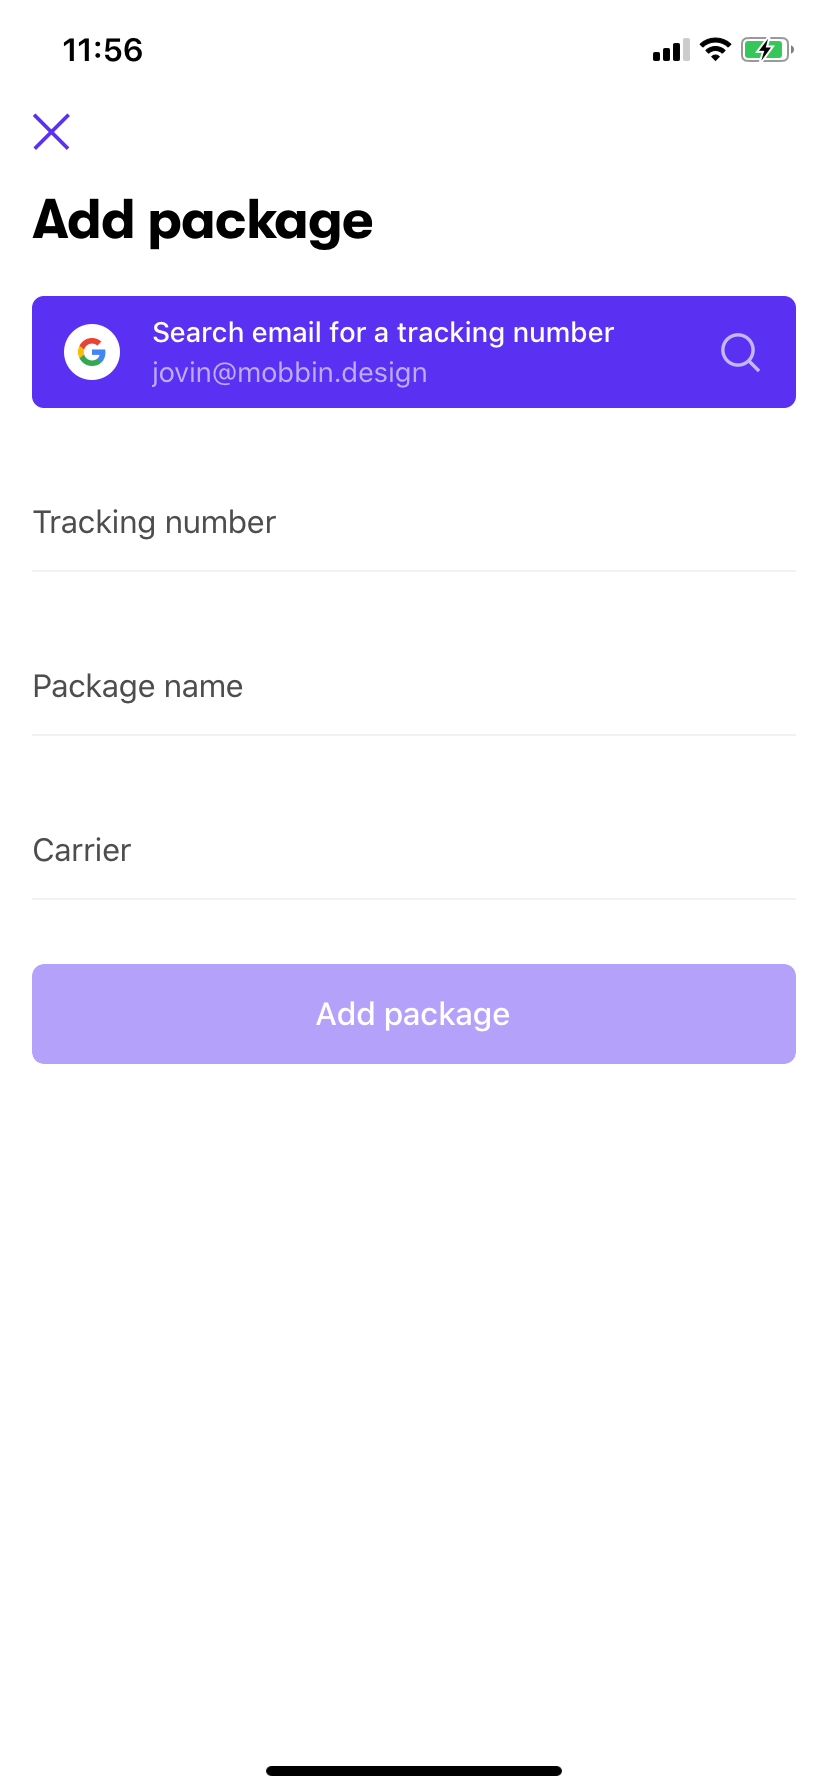Buttons: (23, 280, 804, 425), (22, 945, 804, 1074), (7, 85, 99, 171)
